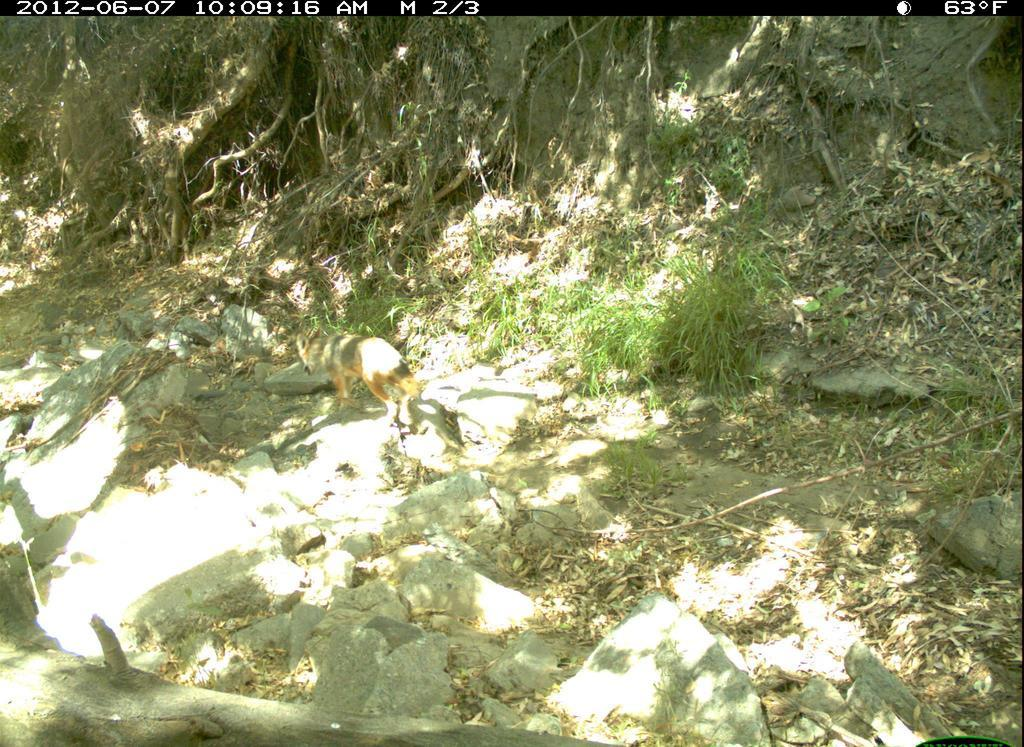coyote: (276, 306, 460, 443)
